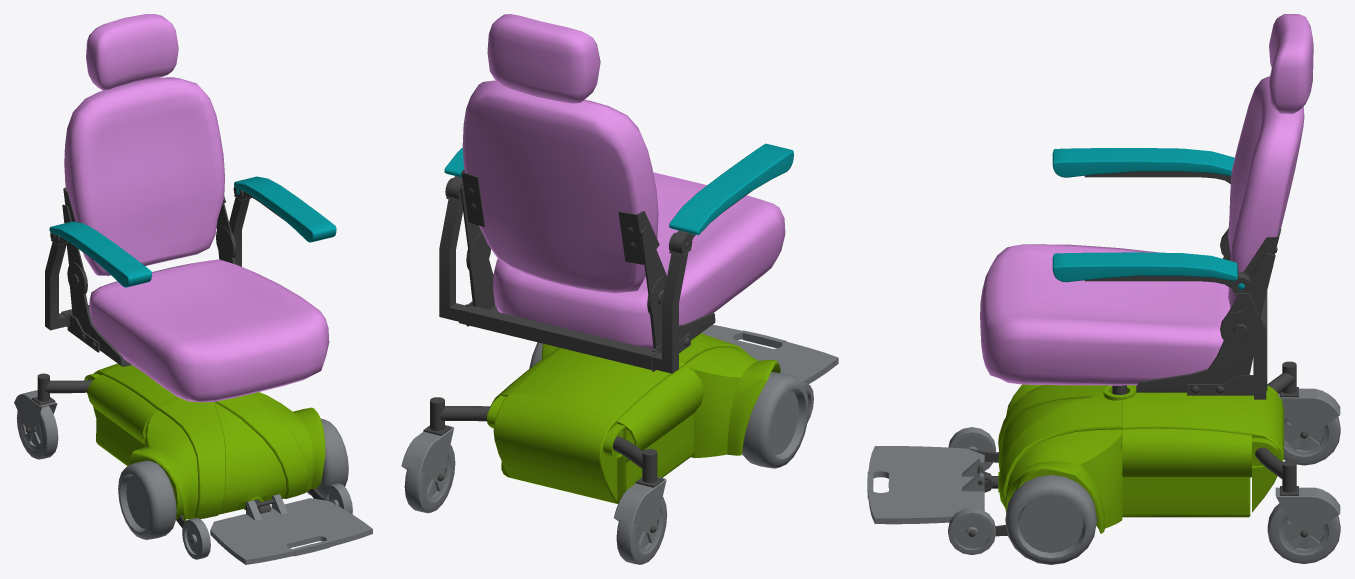
The model's file is Wheelchair_Export.fbx.
3 renders of one model, left to right at view 1: azimuth 30°, elevation 25°; view 2: azimuth 150°, elevation 25°; view 3: azimuth 270°, elevation 25°, orthographic. The views are drawn at different scales.
Visible parts, largest first — view 1: Wheelchair; view 2: Wheelchair; view 3: Wheelchair.
Boxes of the visible parts, bbox=[...] form: Wheelchair: bbox=[14, 14, 372, 564]; Wheelchair: bbox=[401, 14, 838, 564]; Wheelchair: bbox=[867, 14, 1340, 564].
Size of the model in its own units: 23.29 by 44.57 by 39.43.
